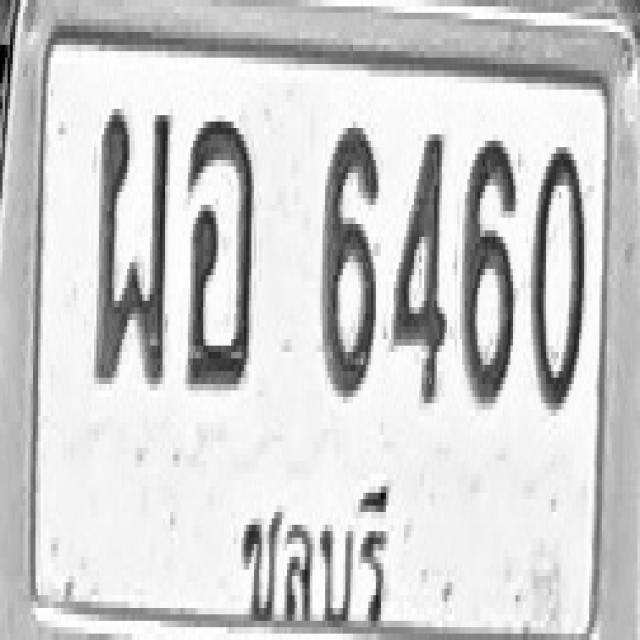0: (530, 140, 586, 410)
37PhorPhueng: (96, 106, 172, 387)
4: (390, 128, 446, 403)
52OrAng: (185, 116, 254, 390)
6: (320, 121, 378, 396), (460, 134, 516, 403)
Chonburi: (227, 466, 396, 640)
